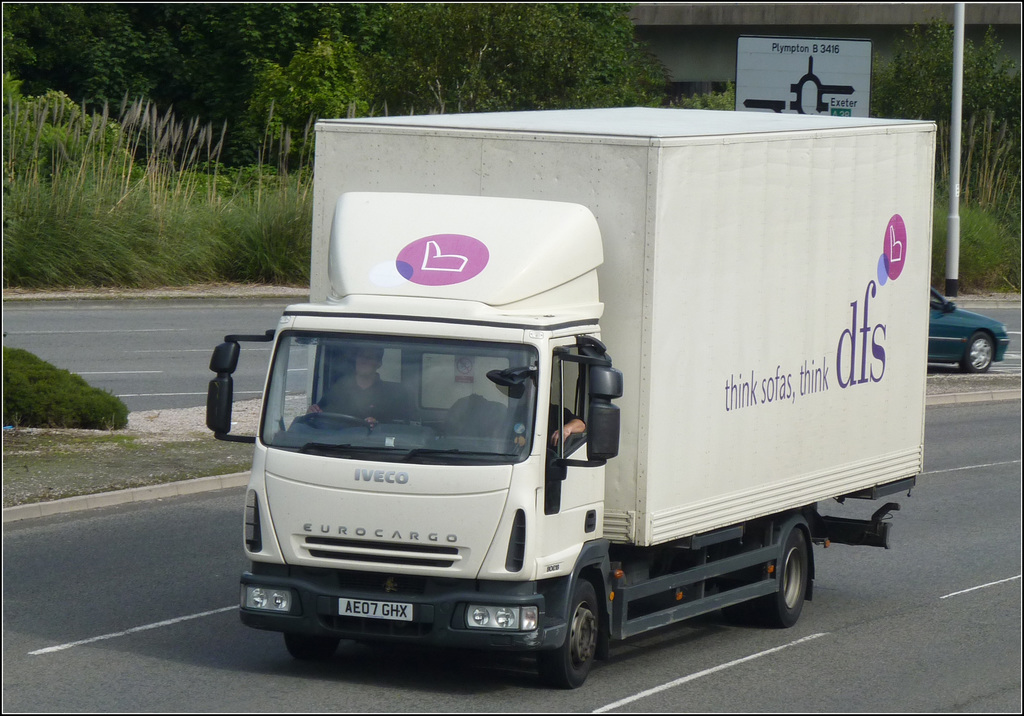car: (904, 263, 1014, 394)
truck: (163, 82, 958, 697)
